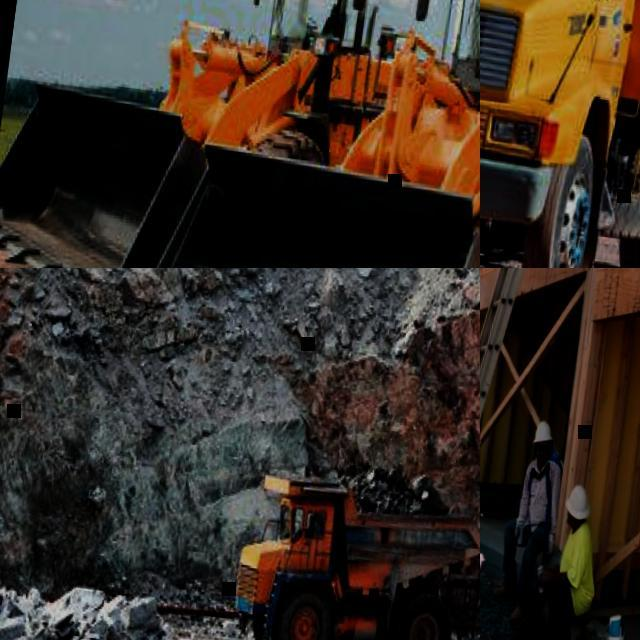Helmet: (564, 478, 593, 530), (530, 408, 561, 449)
Robbery: (553, 475, 618, 635), (504, 406, 573, 553)
